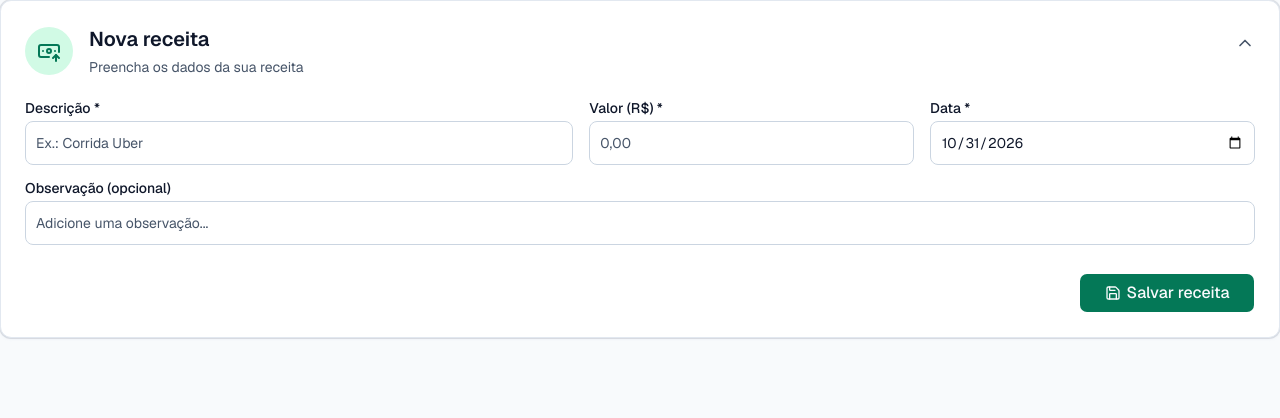
Test case: IncomeForm › should render an error message when register income fails
Type "Corrida Nova" into the field labelled "Descrição *".
click(299, 143); type("Corrida Nova")  # box [25, 121, 573, 165]
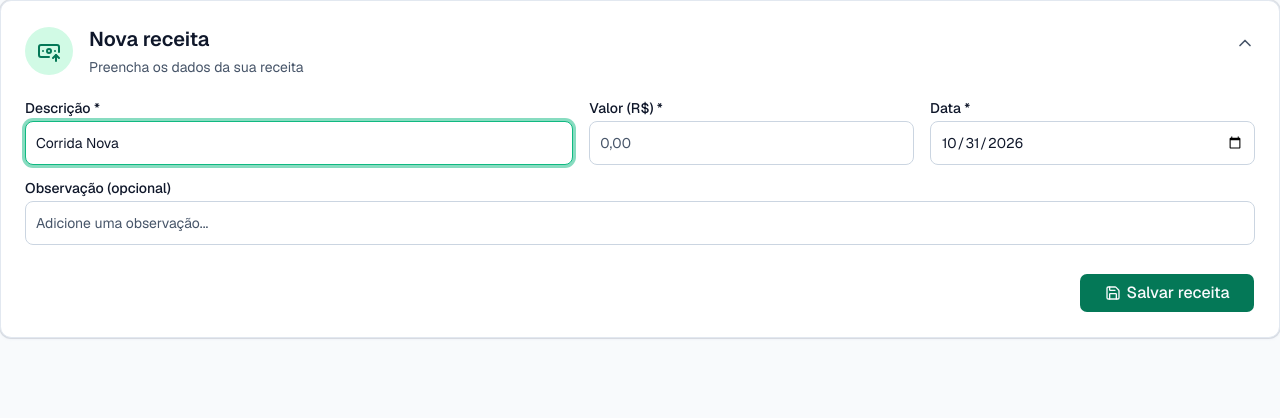
Type "100" into the field labelled "Valor (R$) *".
click(752, 143); type("100")  # box [589, 121, 914, 165]
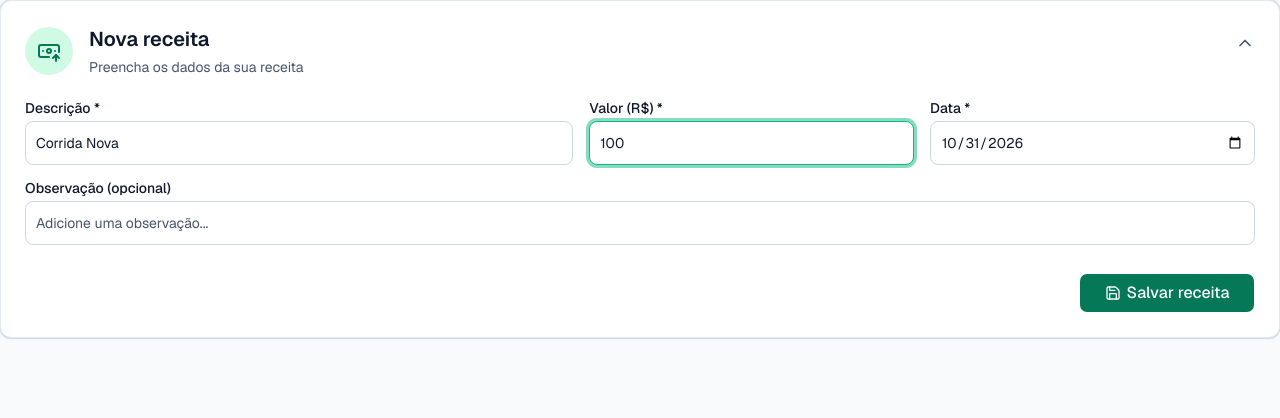
Type "2026-04-10" into the date field labelled "Data *".
click(1093, 143); type("2026-04-10")  # box [930, 121, 1255, 165]
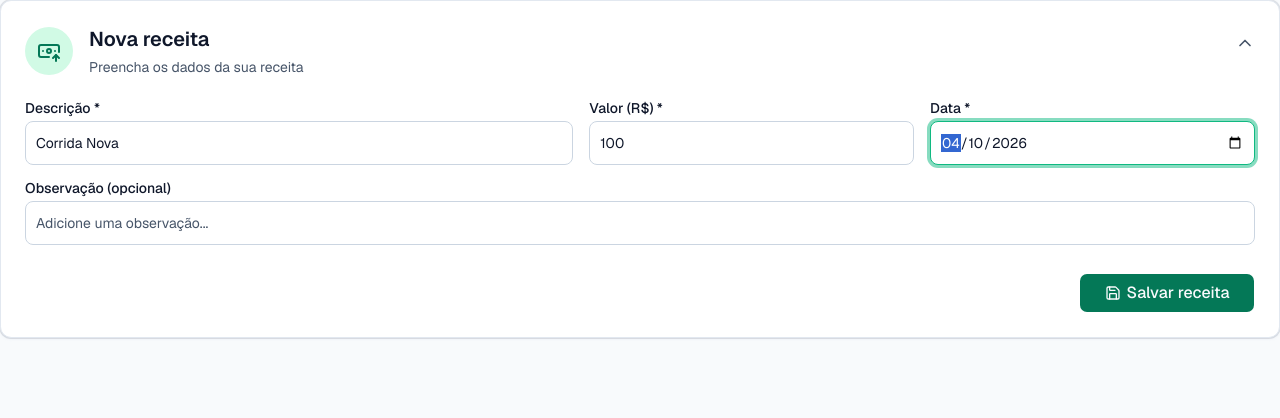
Click the button "Salvar receita".
click(1167, 293)  # box [1079, 273, 1255, 313]
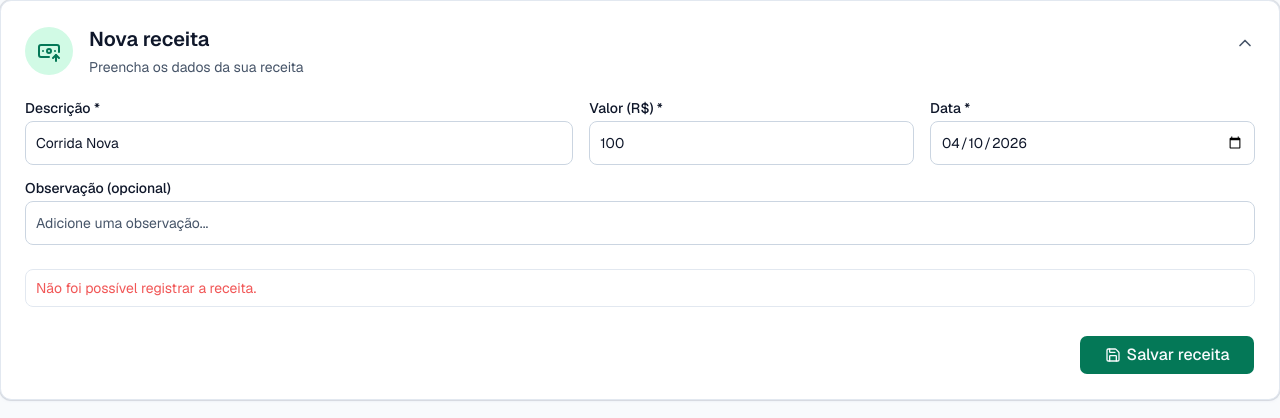
Expected: the text "Não foi possível registrar a receita." is shown, [36, 279, 256, 297]
